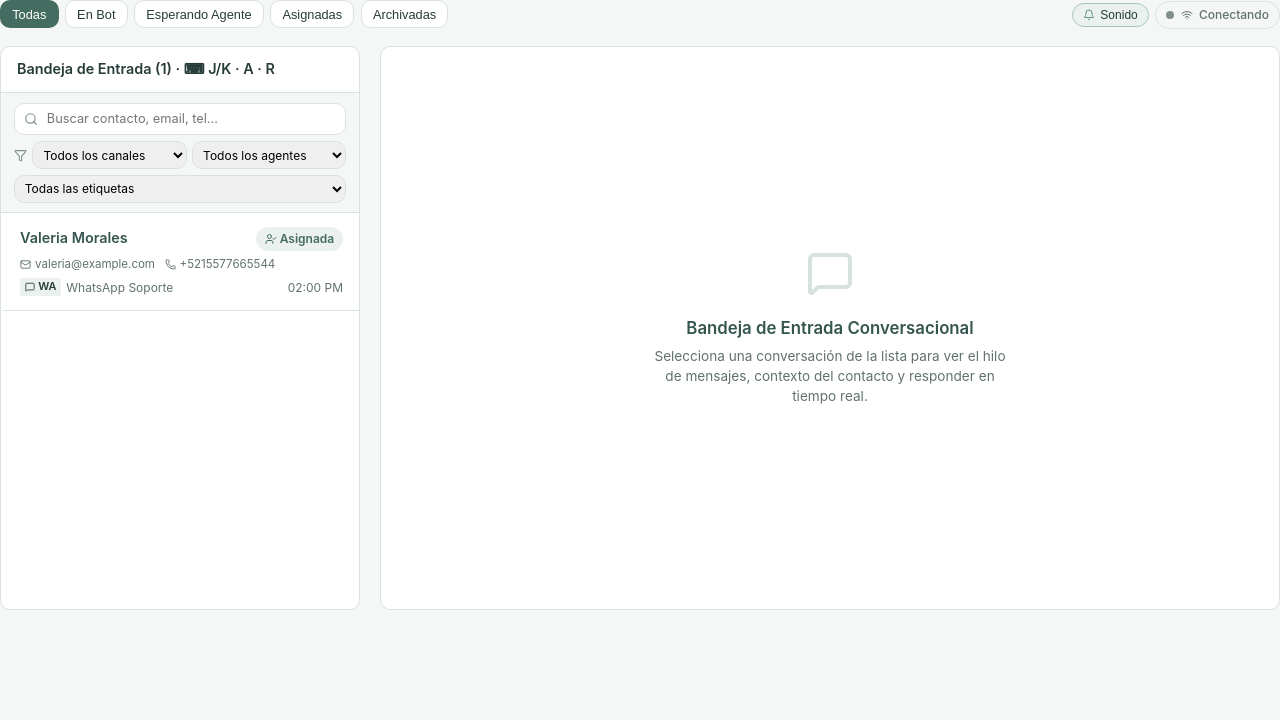
Test: WhatsApp 24-Hour Service Window in ConversationsView › renders active WhatsApp window badge and enables composer when window is open
This screenshot has width=1280, height=720.
Click the element with test id "conversation-item" at (180, 262), box x1=1 y1=213 x2=359 y2=311
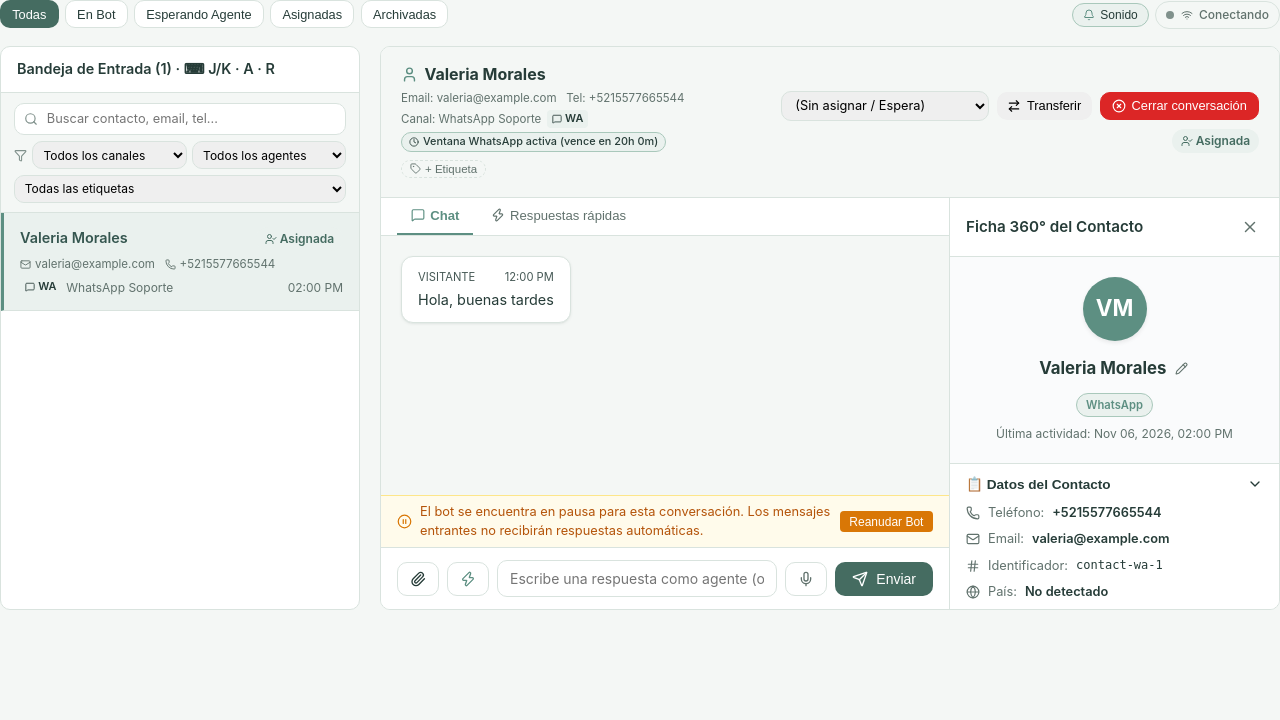
Expected: the element with test id "whatsapp-window-active-badge" shows "Ventana WhatsApp activa", x1=401 y1=132 x2=666 y2=152
Expected: the field with test id "agent-reply-input" is enabled, x1=497 y1=560 x2=777 y2=597
